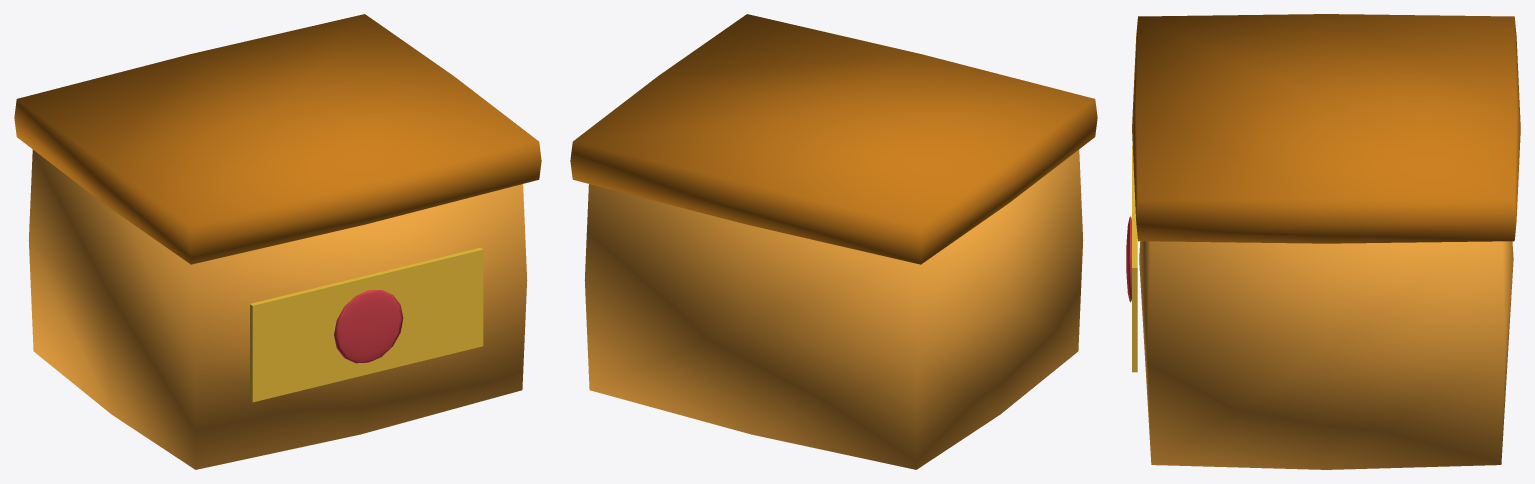
File: toffee_box.glb
3 views of the same model, side by side, from view 1: azimuth 30°, elevation 25°; view 2: azimuth 150°, elevation 25°; view 3: azimuth 270°, elevation 25° (orthographic). The views are drawn at different scales.
Parts seen in each view (by area): view 1: root; view 2: root; view 3: root.
Boxes of the visible parts, x1=… form: root: x1=14, y1=14, x2=541, y2=469; root: x1=570, y1=14, x2=1097, y2=469; root: x1=1126, y1=14, x2=1520, y2=469.
Size of the model in its own units: 0.31 by 0.22 by 0.274.
